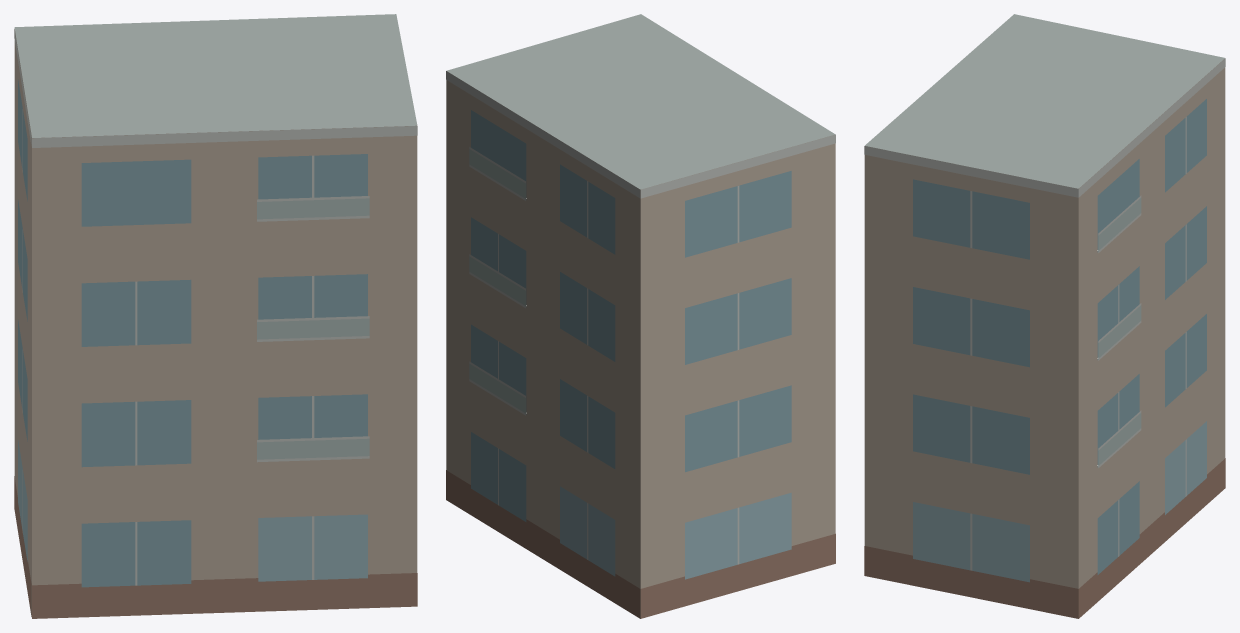
The model's file is survey-upis-32734746.glb.
The picture shows the model from 3 angles, left to right: view 1: azimuth 30°, elevation 25°; view 2: azimuth 150°, elevation 25°; view 3: azimuth 270°, elevation 25°; orthographic projection. The views are drawn at different scales.
Parts seen in each view (by area): view 1: survey-upis-32734746.tmp; view 2: survey-upis-32734746.tmp; view 3: survey-upis-32734746.tmp.
Part boxes in pixels (x1,y1,x2,y2): survey-upis-32734746.tmp: (14,14,417,618); survey-upis-32734746.tmp: (446,14,835,618); survey-upis-32734746.tmp: (864,14,1225,618).
Size of the model in its own units: 10.21 by 11.7 by 8.91.
